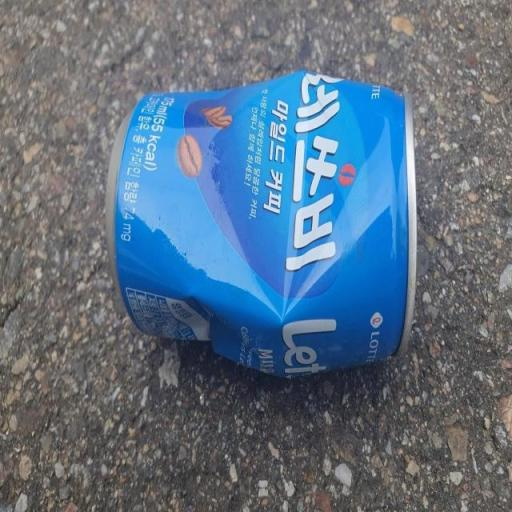metal: (69, 36, 495, 479)
